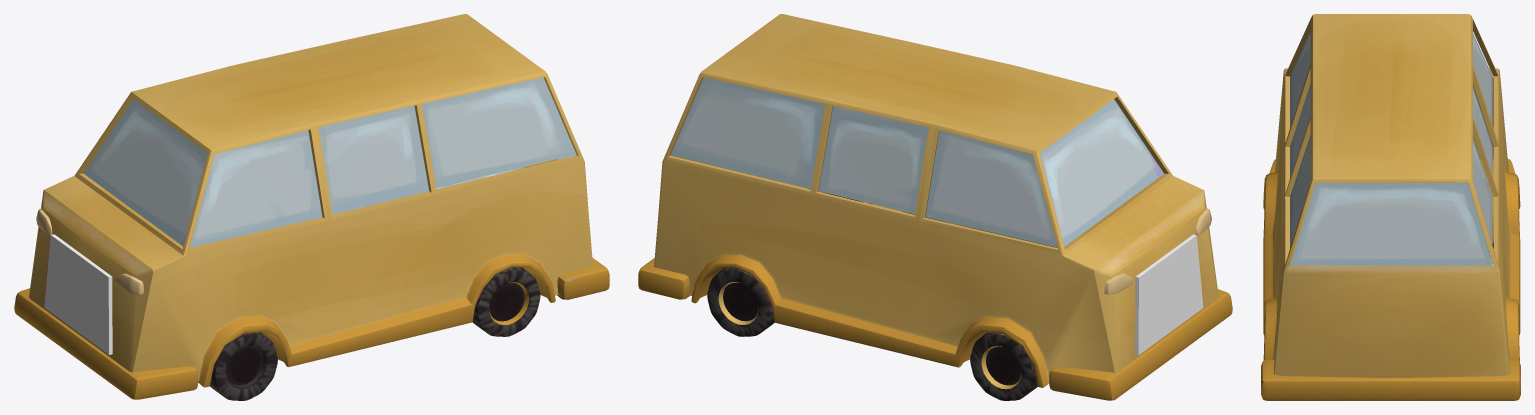
Rendered from Furgo5.fbx.
3 views of the same model, side by side, from view 1: azimuth 30°, elevation 25°; view 2: azimuth 150°, elevation 25°; view 3: azimuth 270°, elevation 25° (orthographic).
Visible parts, largest first — view 1: furgo; view 2: furgo; view 3: furgo.
Part boxes in pixels (x1,y1,x2,y2): furgo: [14, 14, 609, 400]; furgo: [638, 14, 1232, 400]; furgo: [1261, 14, 1520, 400].
Bounding box in the file's own units: 436 × 212 × 212.
